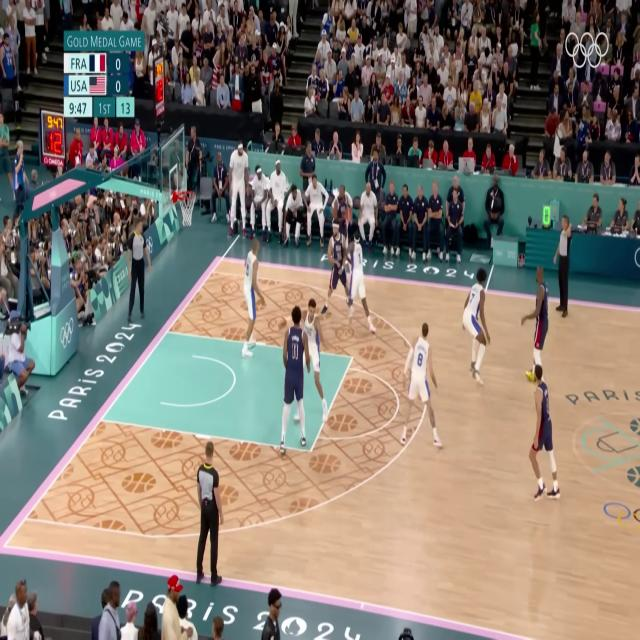ball-handler: (325, 195, 355, 312)
player: (521, 362, 564, 508), (401, 314, 446, 451), (516, 267, 566, 382), (276, 298, 306, 457), (456, 264, 492, 391), (238, 238, 268, 364), (347, 227, 385, 325), (302, 295, 326, 422)
